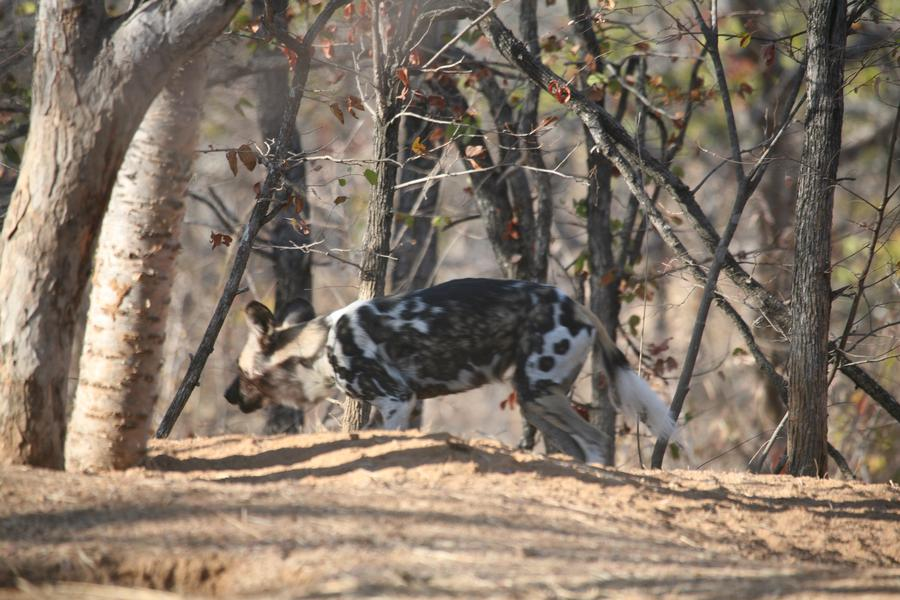wilddog: (226, 257, 629, 442)
